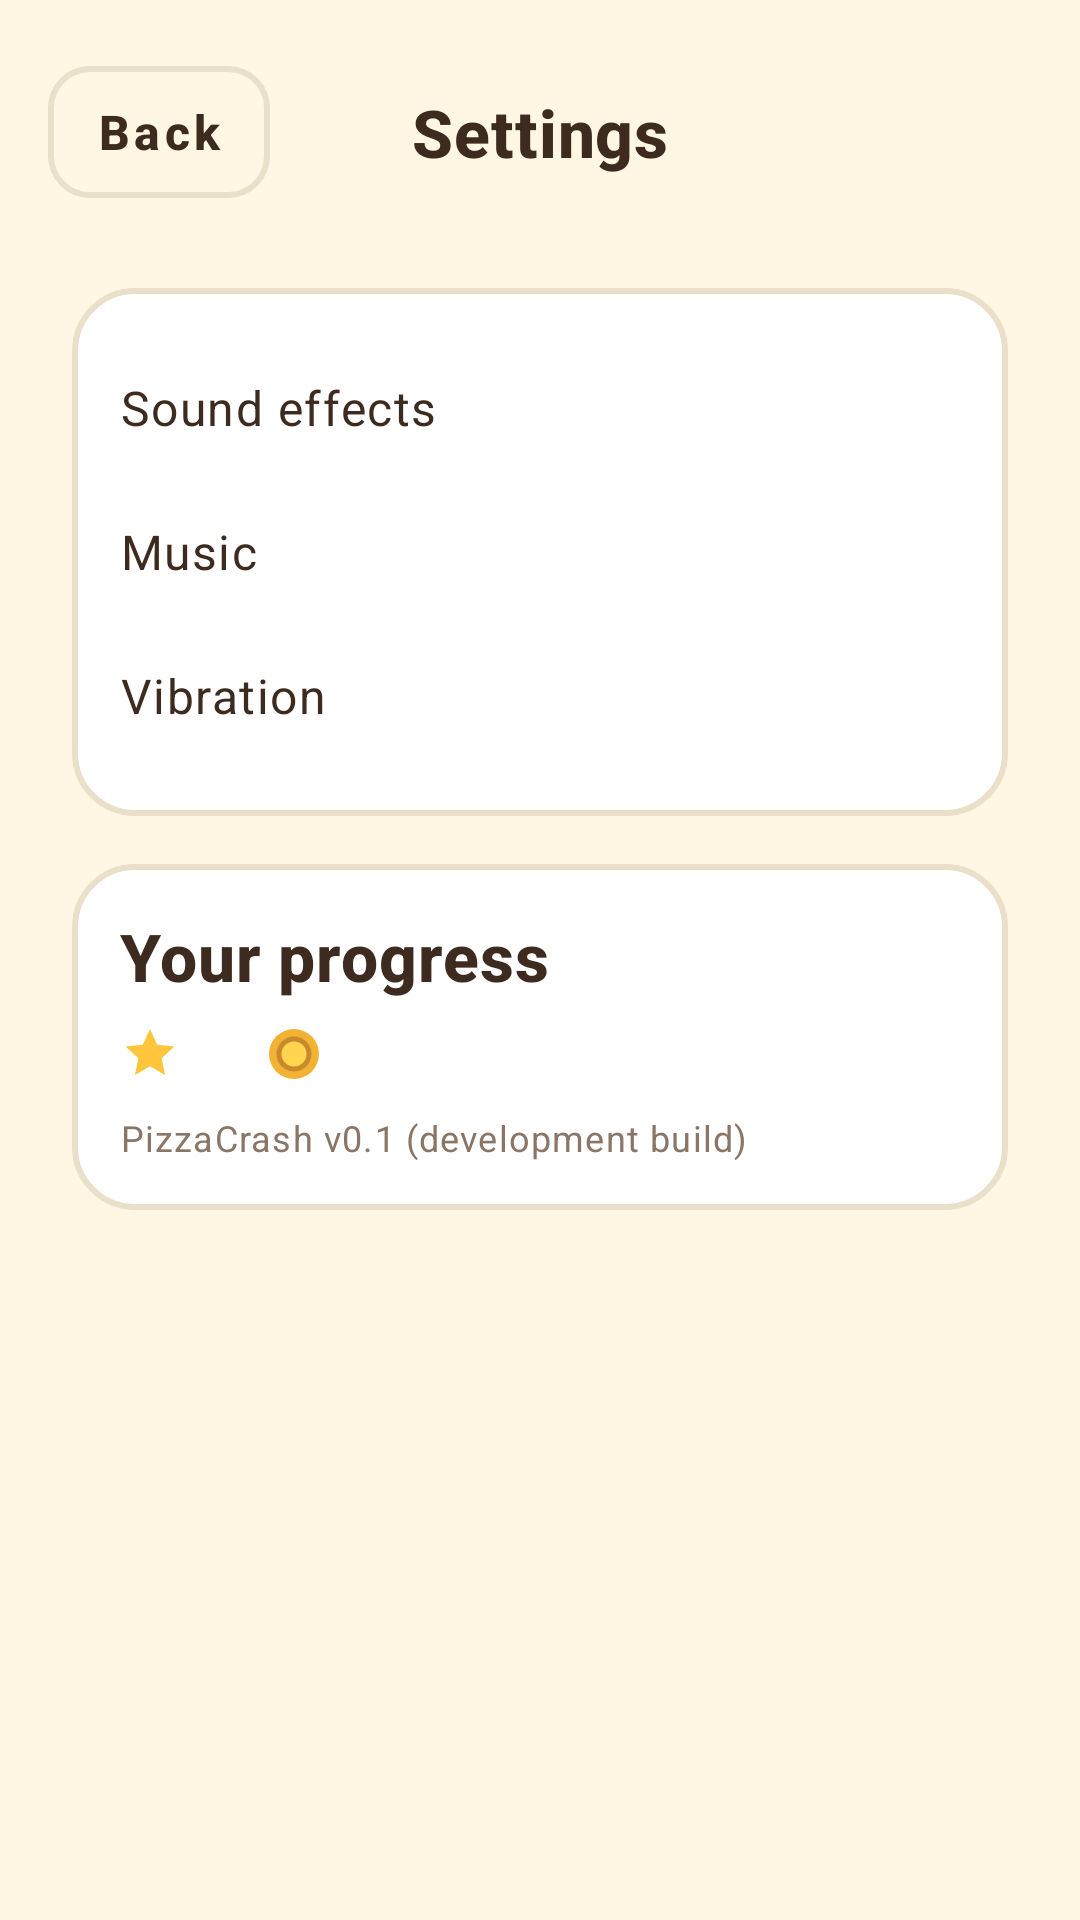

Icon bounding boxes for this 1080w x 1920h phone screenshot, format detection(x1, y1, x2, y2):
star: detection(126, 1029, 174, 1075)
